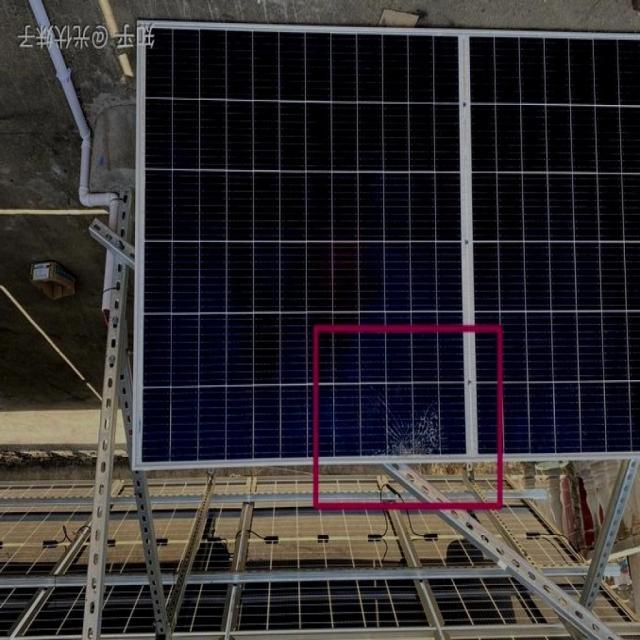cracked: (362, 383, 439, 458)
